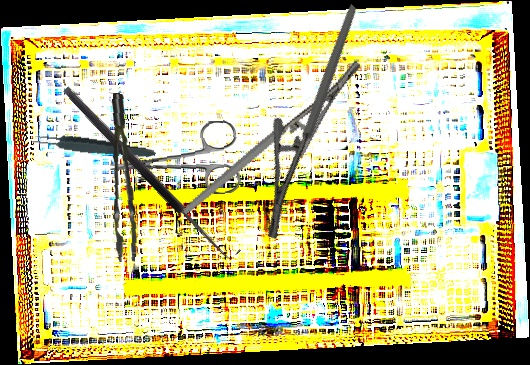Hook Surgical: (61, 77, 243, 265)
Iris Scissors: (106, 119, 242, 202)
Needle Holder: (205, 4, 421, 241), (155, 58, 388, 215)
Tissue Forceps: (101, 93, 147, 263), (29, 130, 157, 162)
